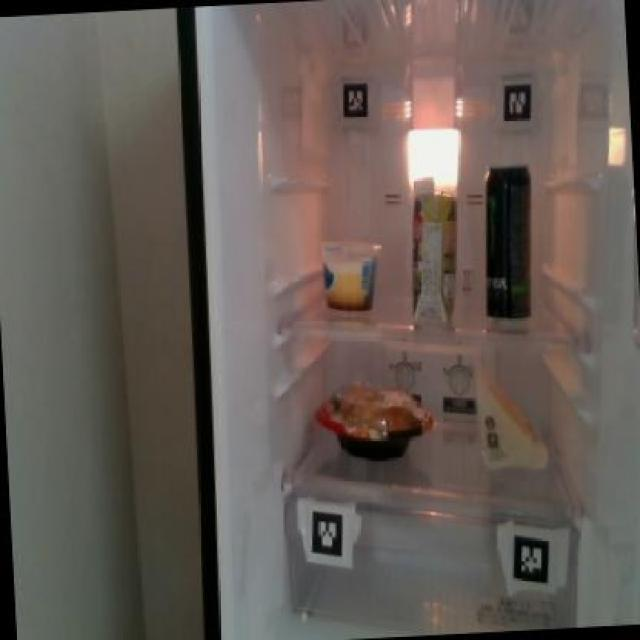bento: (314, 381, 436, 461)
energy_drink: (477, 155, 537, 320)
pudding: (316, 232, 381, 310)
sandwich: (472, 352, 554, 474)
smoothie: (402, 169, 464, 323)
